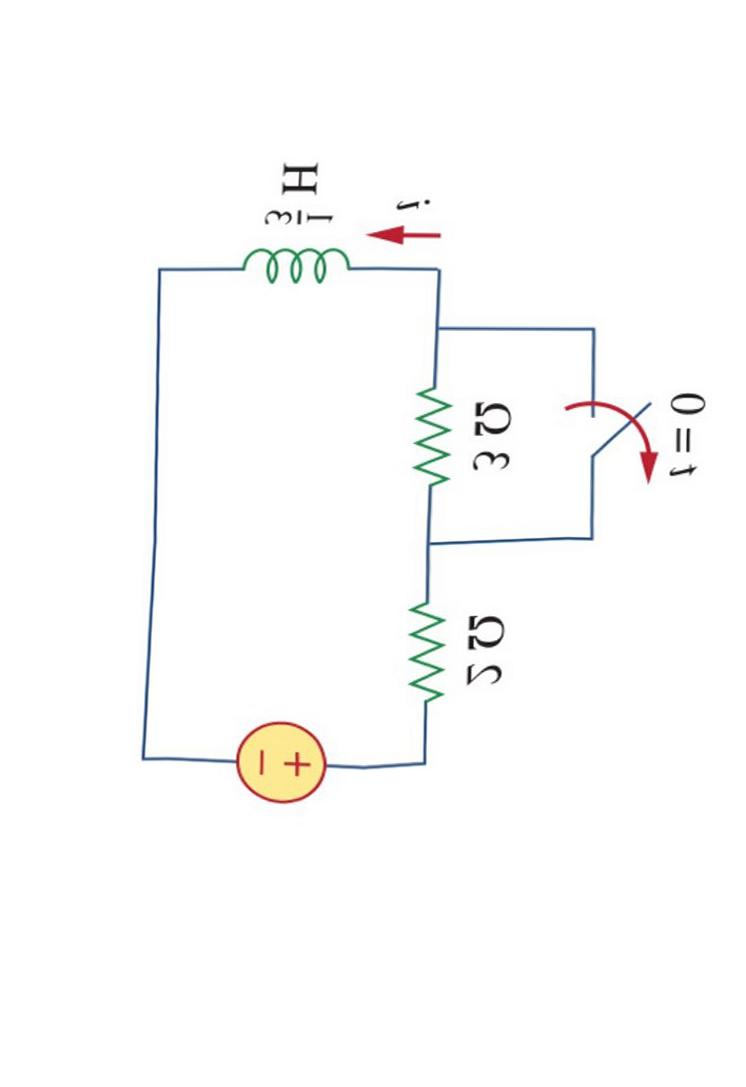Battery: (204, 682, 360, 844)
